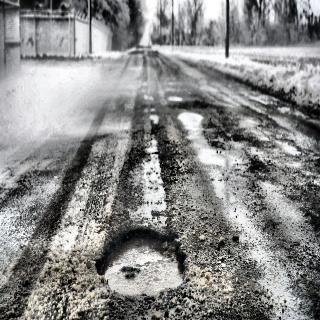pothole: (93, 210, 188, 302)
